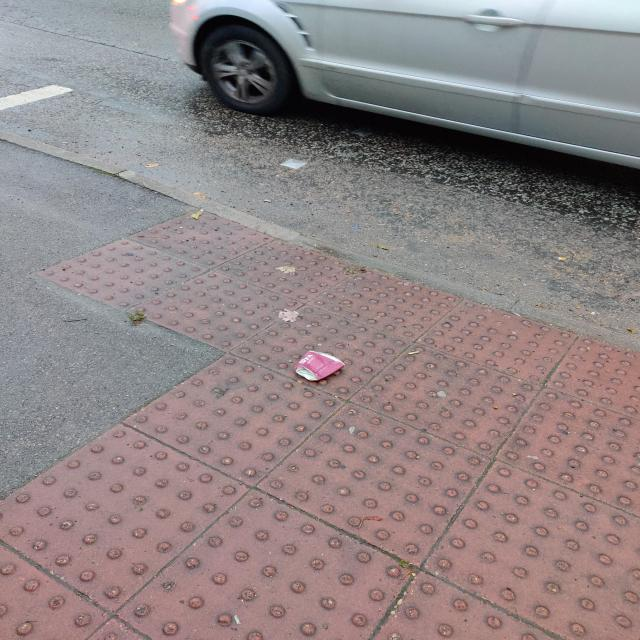litter: (278, 335, 366, 392)
